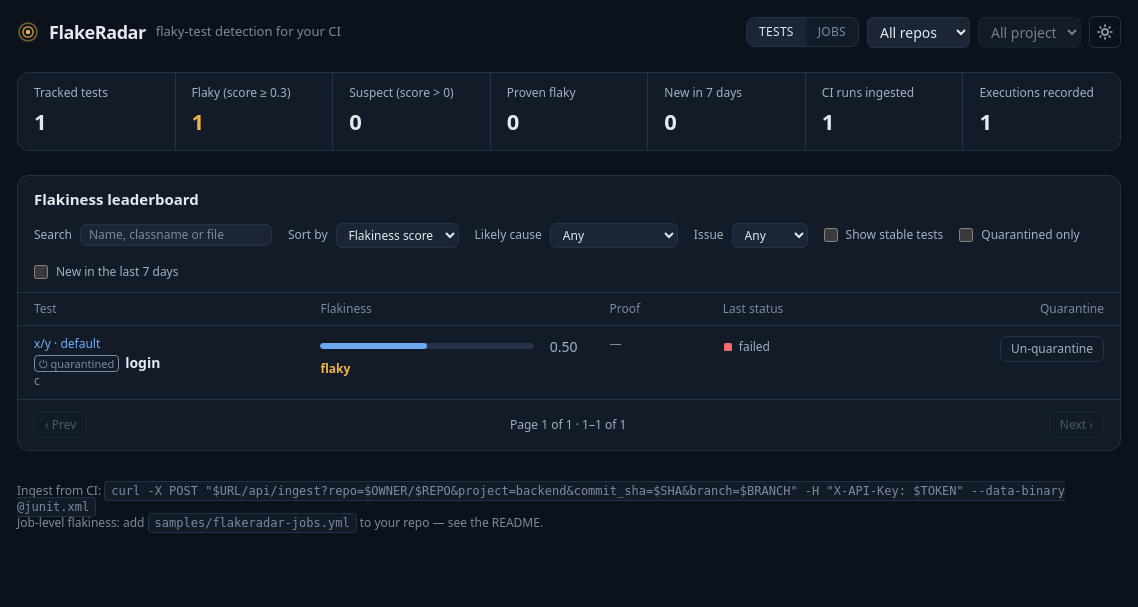
Test: App refresh › shows the banner when an un-quarantine fails
Expected: the text "login" is shown, [125,352,160,372]
Click the button "Un-quarantine" at {"x": 1052, "y": 348}, box [1000,336,1104,362]
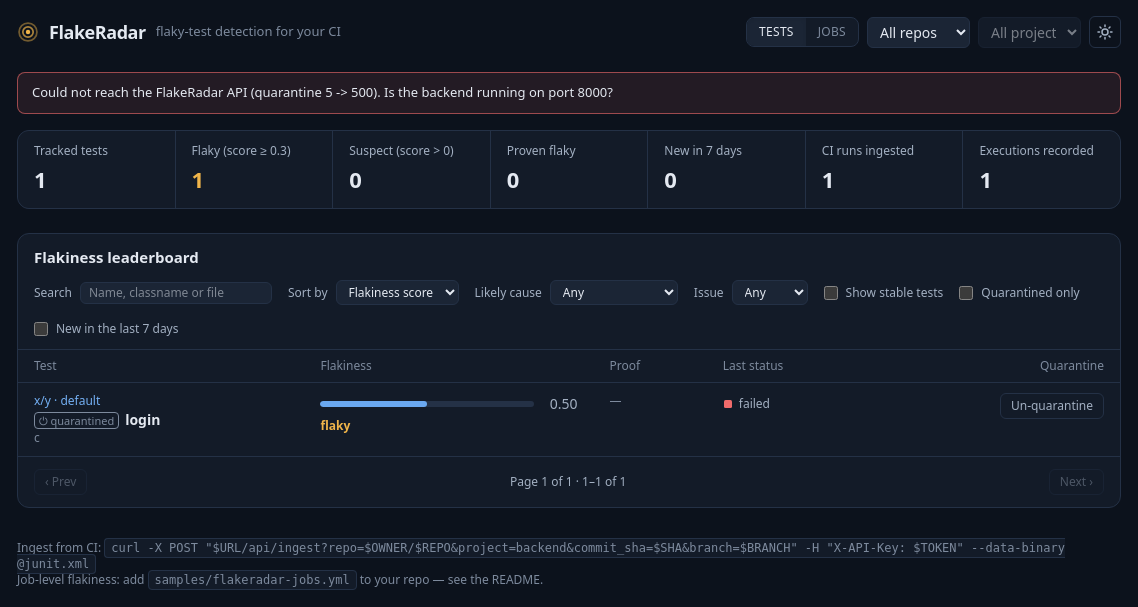
Expected: the message shows "quarantine 5 -> 500", [255,83,373,101]
